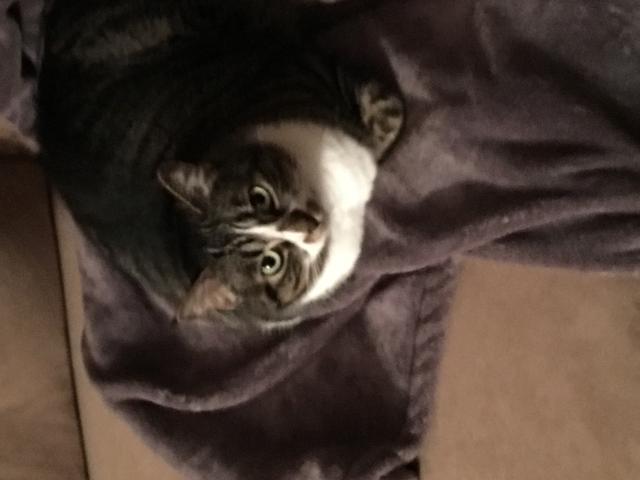playdoh: (35, 1, 409, 322)
